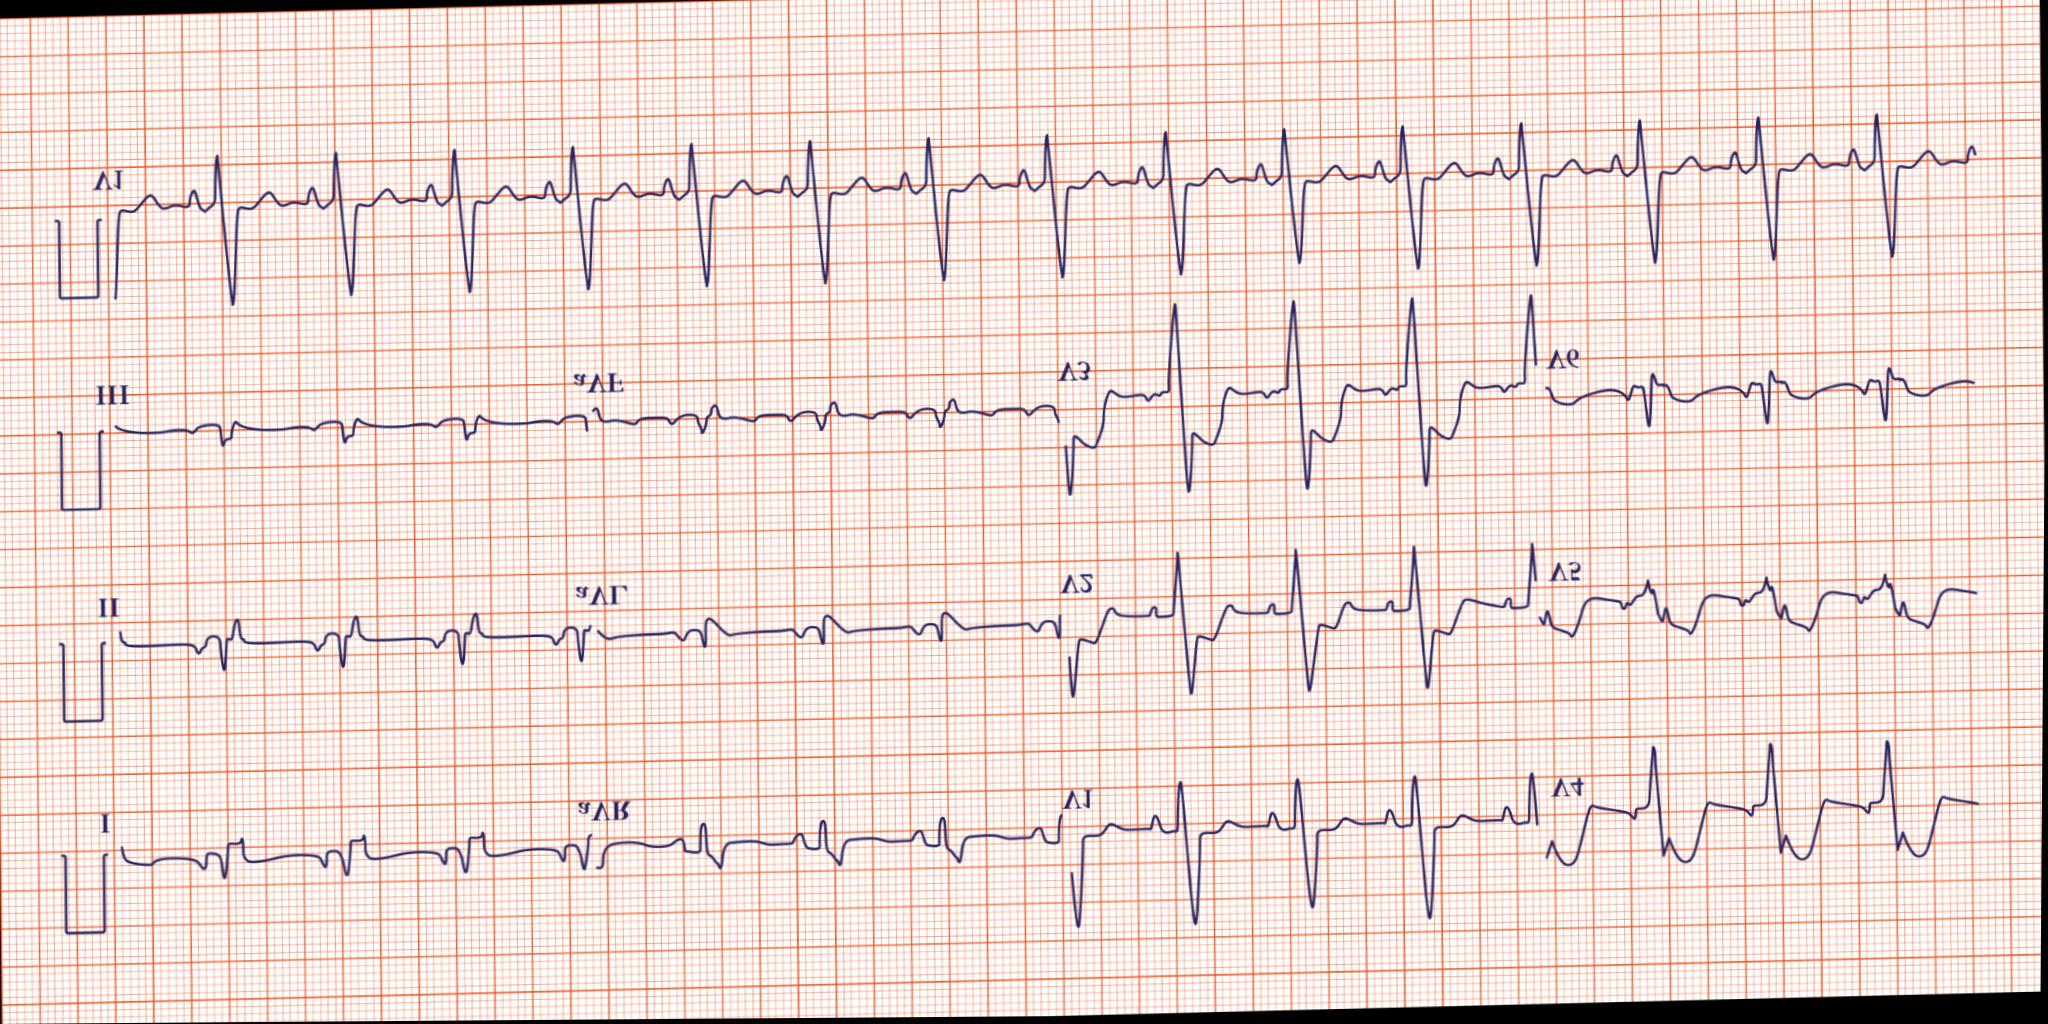Lead_I: (86, 781, 539, 933)
Lead_II: (85, 571, 543, 711)
Lead_III: (82, 345, 551, 504)
Lead_V1: (1050, 725, 1546, 960)
Lead_V2: (1055, 528, 1543, 731)
Lead_V3: (1057, 280, 1549, 509)
Lead_V4: (1543, 729, 1988, 938)
Lead_V5: (1536, 530, 1993, 701)
Lead_V6: (1546, 311, 2000, 481)
Lead_aVF: (547, 341, 1067, 495)
Lead_aVL: (538, 562, 1066, 717)
Lead_aVR: (545, 743, 1063, 935)
